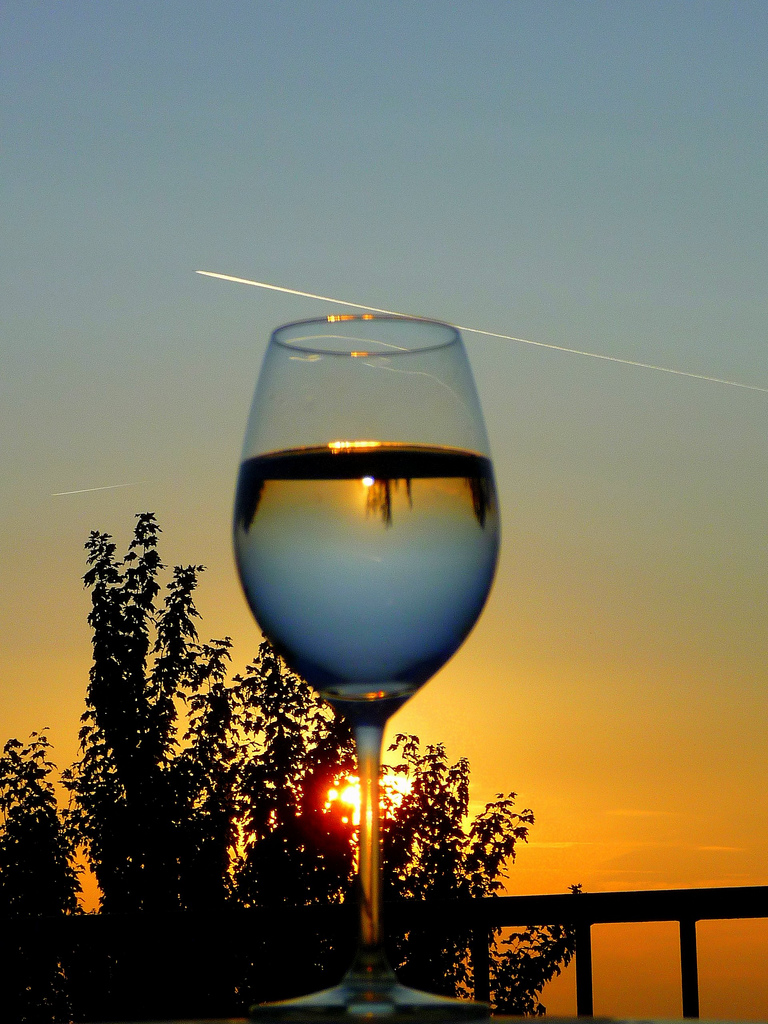glass of water: (259, 300, 472, 1024)
